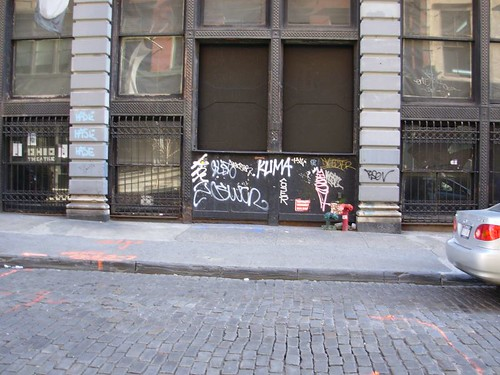building: (1, 1, 485, 218)
car: (446, 206, 500, 286)
graffiti: (279, 154, 351, 214), (204, 183, 270, 209), (212, 157, 258, 184), (252, 154, 298, 181), (192, 155, 214, 206), (360, 161, 402, 186)
sidewalk: (1, 217, 468, 286)
street: (5, 269, 500, 375)
